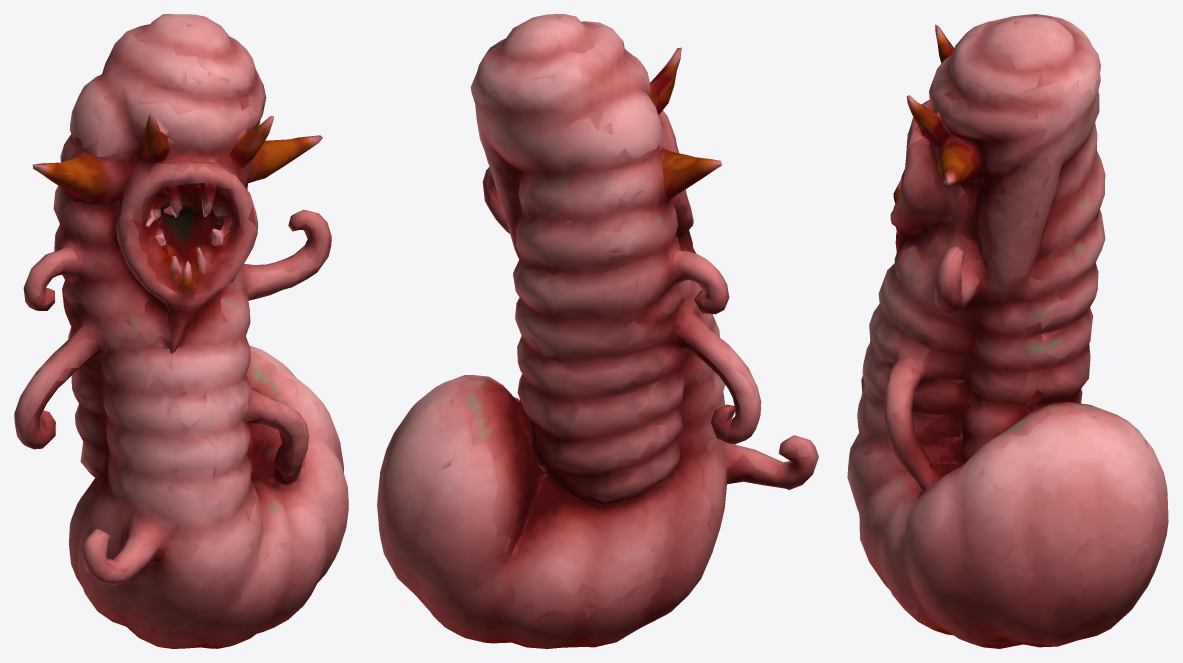
File: SARGB1.obj
3 renders of one model, left to right at view 1: azimuth 30°, elevation 25°; view 2: azimuth 150°, elevation 25°; view 3: azimuth 270°, elevation 25°, orthographic. The views are drawn at different scales.
Size of the model in its own units: 0.5793 by 1 by 0.488.
Materials: 1 (1 with a texture image).
